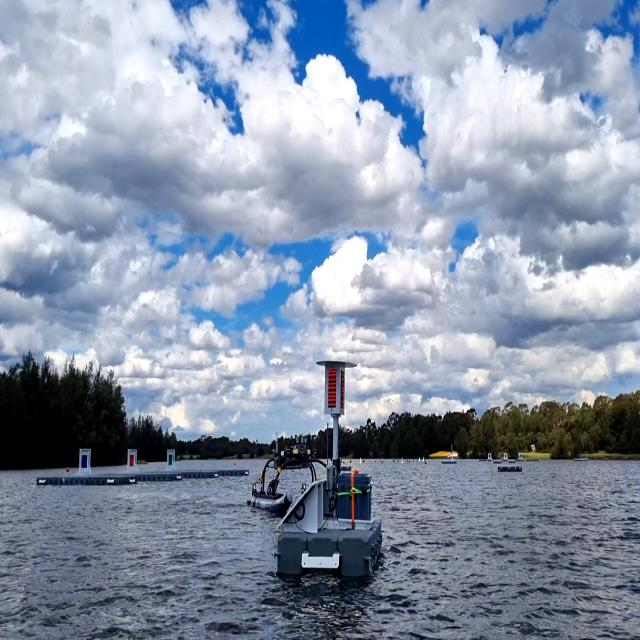led: (326, 366, 338, 413)
